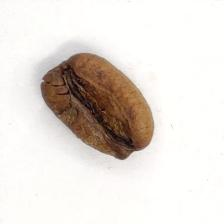NG: (39, 65, 134, 160)
